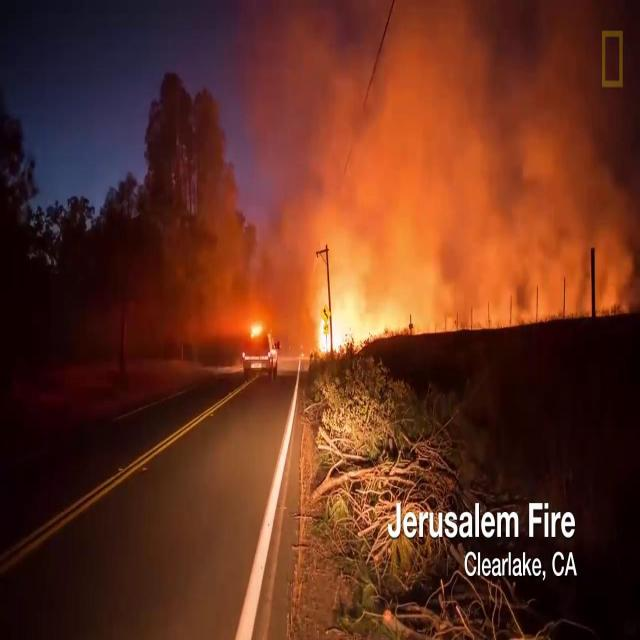Fire: (315, 314, 337, 348)
